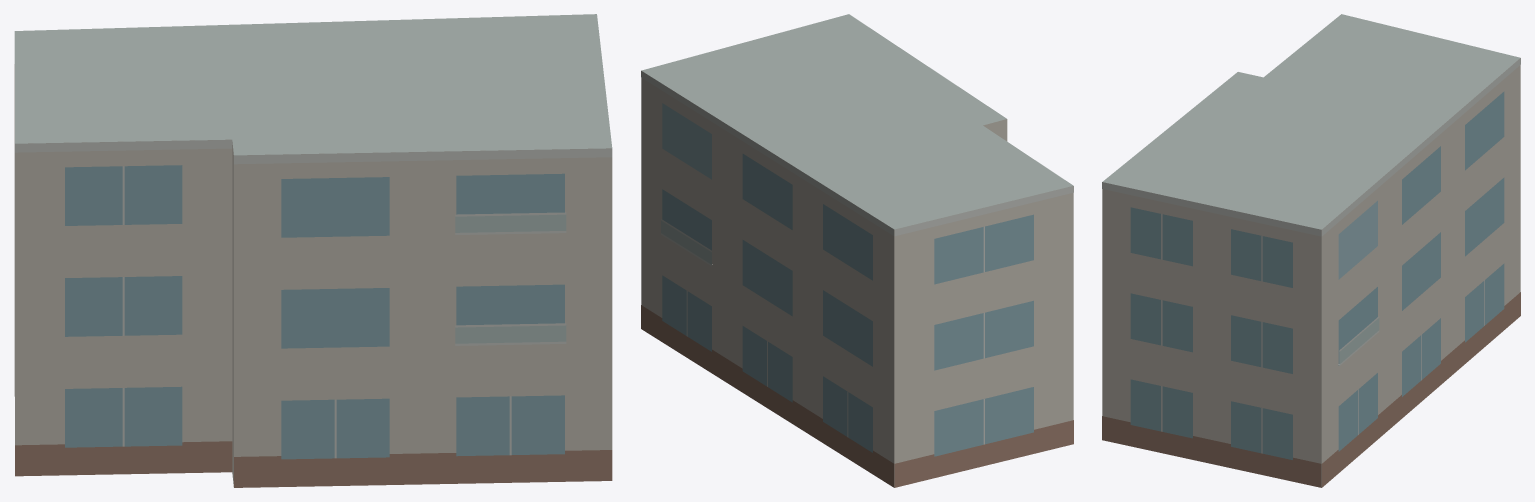
File: survey-upis-32977664.glb
3 renders of one model, left to right at view 1: azimuth 30°, elevation 25°; view 2: azimuth 150°, elevation 25°; view 3: azimuth 270°, elevation 25°, orthographic. The views are drawn at different scales.
Parts seen in each view (by area): view 1: survey-upis-32977664.tmp; view 2: survey-upis-32977664.tmp; view 3: survey-upis-32977664.tmp.
Part boxes in pixels (x1,y1,x2,y2): survey-upis-32977664.tmp: (14, 14, 612, 487); survey-upis-32977664.tmp: (641, 14, 1073, 487); survey-upis-32977664.tmp: (1102, 14, 1520, 487).
Bounding box in the file's own units: 16.41 × 9.15 × 13.46.
